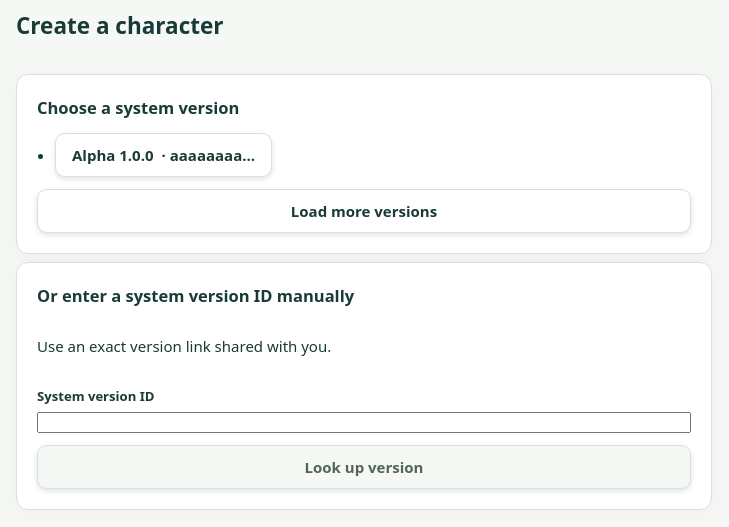
Test: versionCatalog › picker loads the first page with the catalog limit and offers more while nextCursor is set
Expected: the button "Alpha 1.0.0 · aaaaaaaa…" is shown, [55, 133, 272, 177]
Expected: the button "Beta 1.0.0" is not shown
Click the button "Load more versions" at point(364, 211), box [37, 189, 691, 233]
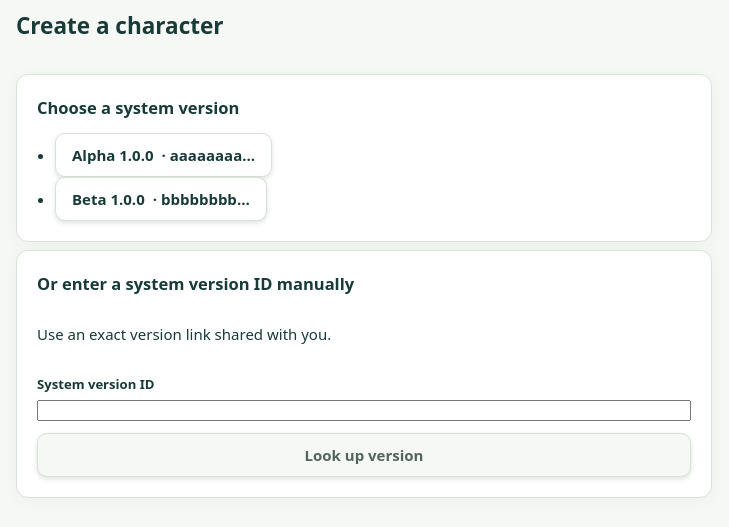
Expected: the button "Alpha 1.0.0 · aaaaaaaa…" is shown, [55, 133, 272, 177]
Now the button "Beta 1.0.0 · bbbbbbbb…" is shown, box [55, 177, 267, 221]
Now the button "Load more versions" is gone
